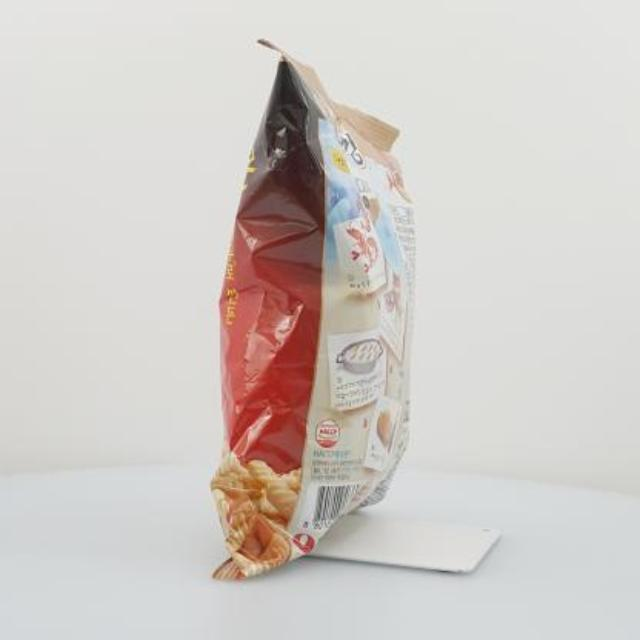snack_bag: (178, 22, 438, 592)
